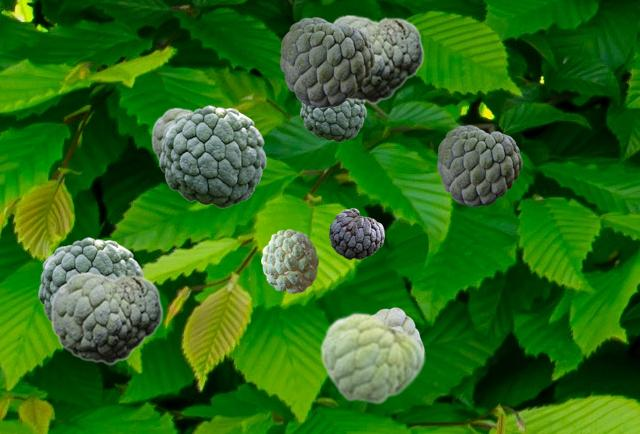atis: (159, 105, 265, 207), (50, 271, 162, 364), (319, 311, 424, 404), (38, 237, 143, 321), (280, 17, 373, 106), (332, 14, 423, 103), (437, 125, 521, 205), (261, 229, 317, 292), (329, 208, 383, 258), (300, 100, 365, 141), (151, 107, 193, 161), (375, 307, 423, 345)
